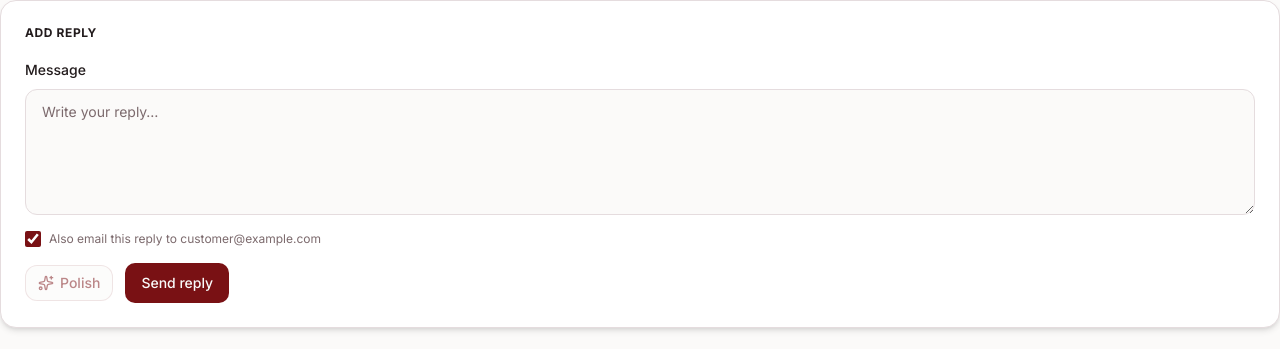
it: ReplyForm — Polish button › replaces the textarea content with the polished text on success
Type "pleas help me" into the text box labelled "Message" at (640, 152), box 25,89 -> 1255,215
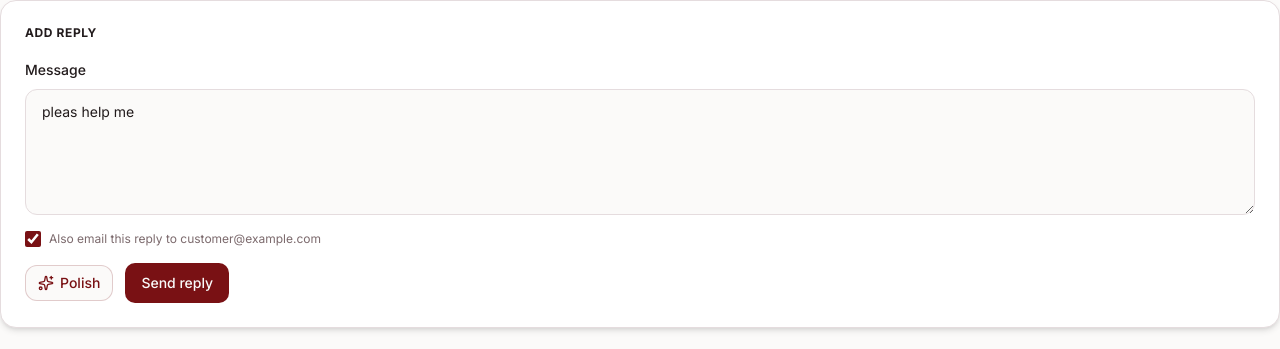
Click the button "Polish" at (69, 283), box 25,265 -> 113,301
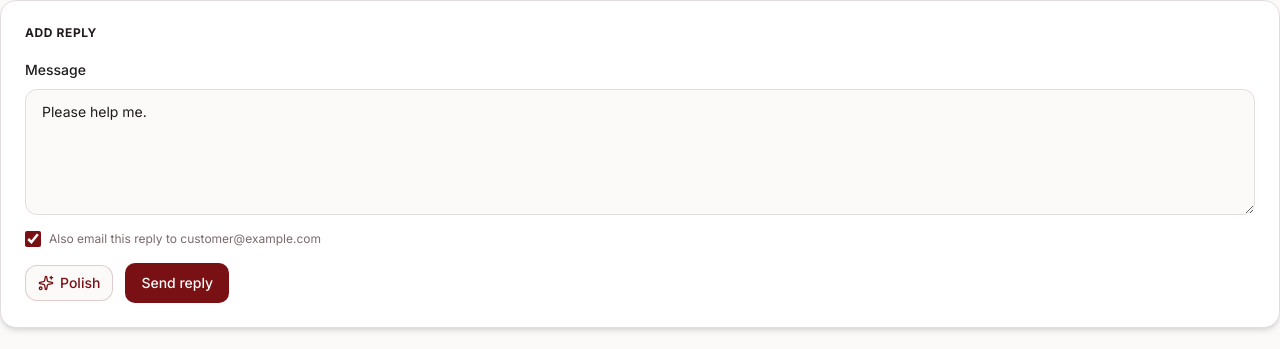
expect the text box labelled "Message" holds "Please help me.": met, box 25,89 -> 1255,215
